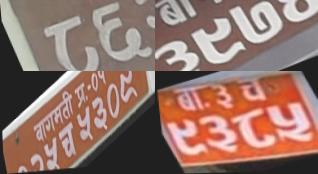0: (104, 79, 123, 127), (88, 71, 100, 98), (12, 158, 32, 174)
1: (184, 0, 224, 16), (96, 71, 108, 93)
2: (127, 0, 155, 55), (26, 145, 46, 172)
3: (193, 109, 244, 158), (155, 29, 205, 71), (205, 76, 243, 113), (89, 91, 110, 141)
4: (264, 0, 318, 33)
5: (260, 95, 318, 149), (74, 103, 94, 152), (40, 133, 61, 172)
6: (81, 0, 155, 71)
7: (225, 0, 288, 54)
8: (30, 6, 105, 71), (226, 104, 283, 155)
9: (182, 10, 249, 71), (163, 113, 214, 164), (115, 71, 139, 115)
ba: (168, 80, 218, 119), (155, 0, 202, 35), (32, 115, 46, 150)
cha: (231, 71, 277, 108), (55, 116, 79, 170)
